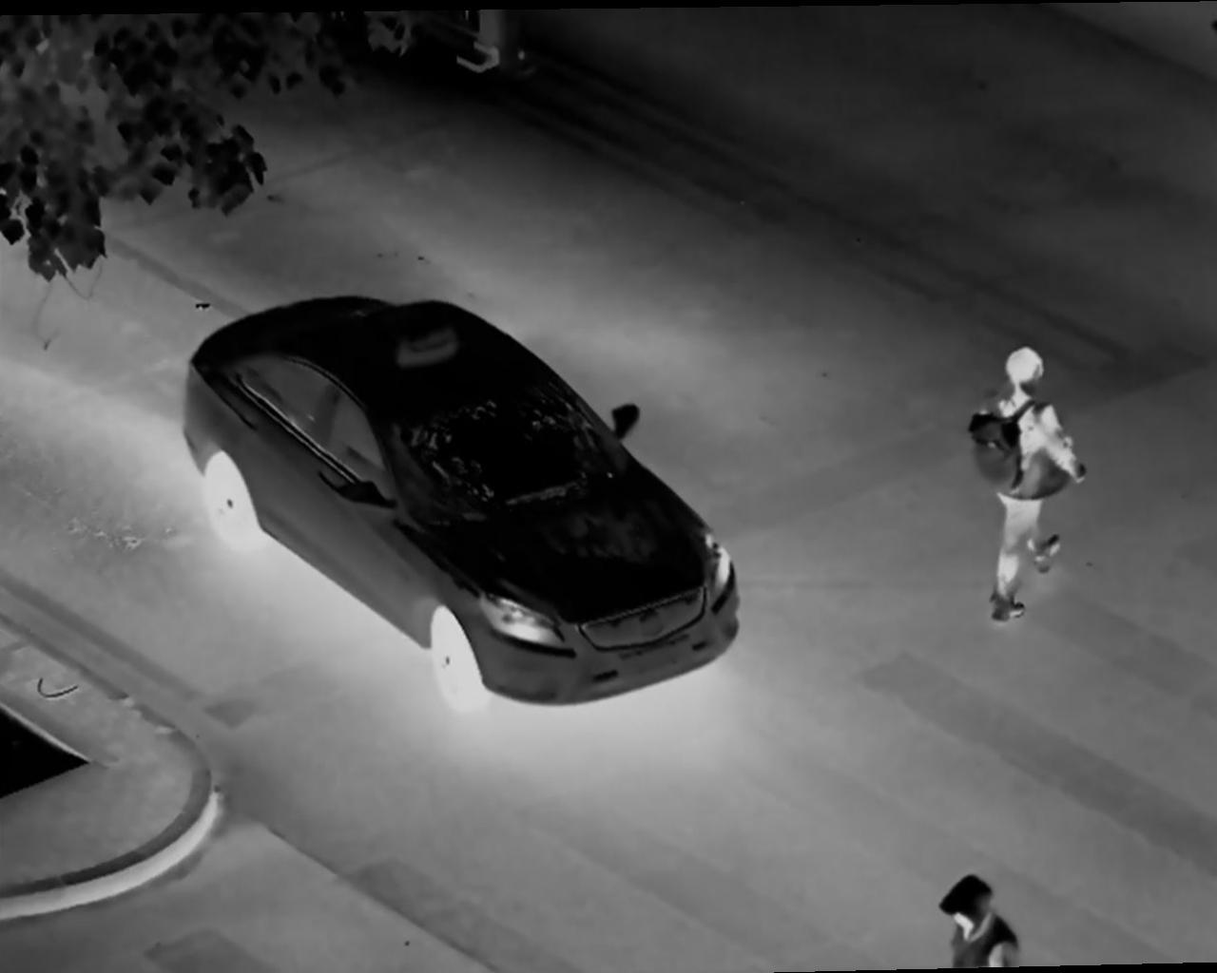person: (965, 336, 1072, 625), (942, 871, 1019, 973)
